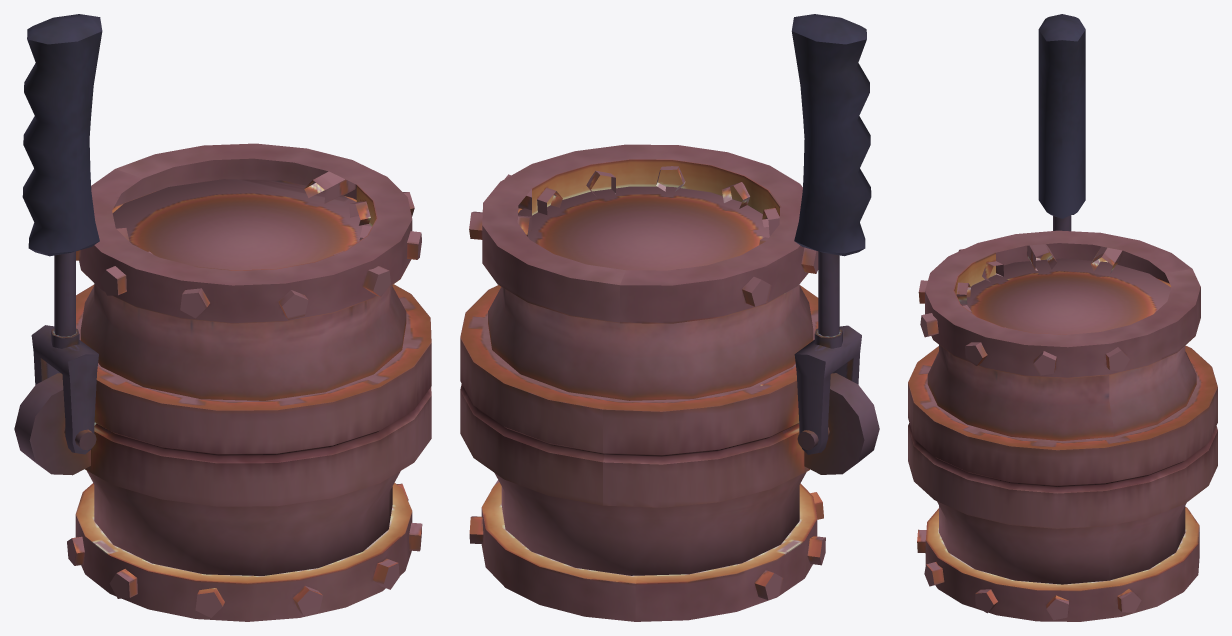
File: lever_door 1.fbx
3 renders of one model, left to right at view 1: azimuth 30°, elevation 25°; view 2: azimuth 150°, elevation 25°; view 3: azimuth 270°, elevation 25°, orthographic. The views are drawn at different scales.
Visible parts, largest first — view 1: body, handle; view 2: body, handle; view 3: body, handle.
Part boxes in pixels (left/top/right/bottom): body: left=14, top=143, right=431, bottom=621; handle: left=22, top=14, right=102, bottom=454; body: left=460, top=144, right=879, bottom=621; handle: left=791, top=14, right=871, bottom=454; body: left=908, top=230, right=1217, bottom=621; handle: left=1038, top=14, right=1085, bottom=231.
Size of the model in its own units: 1.16 by 1.65 by 0.9827.
1 material, 1 textured.
